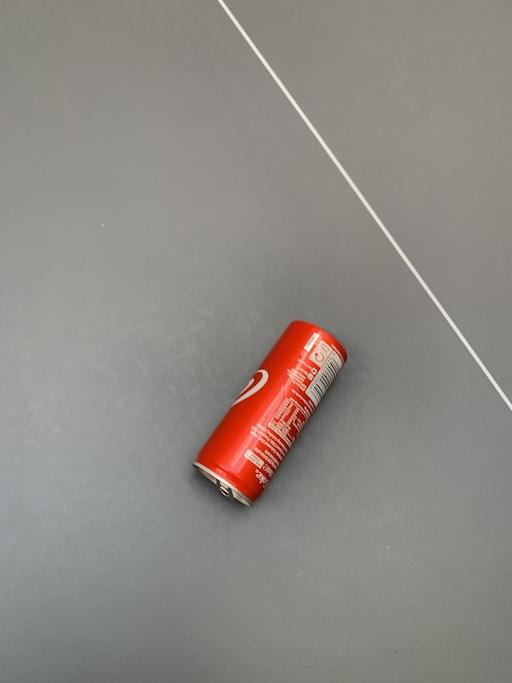Aluminum can: (162, 298, 375, 522)
